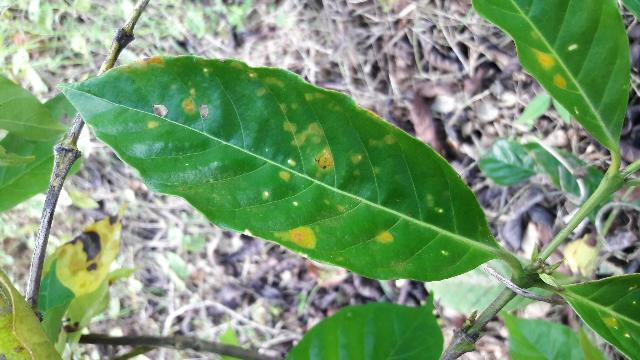rust_level_2: (58, 53, 506, 282)
